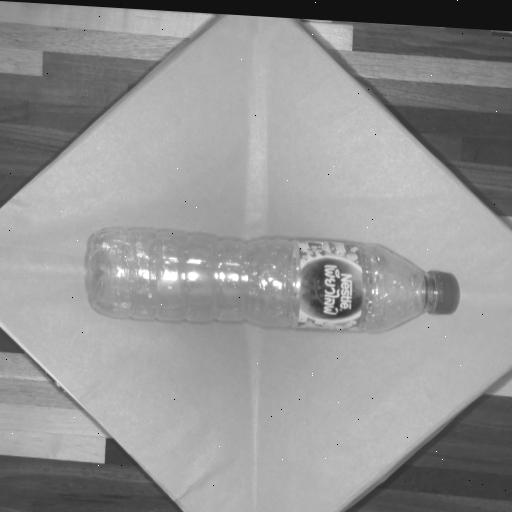bottle: (80, 222, 460, 338)
